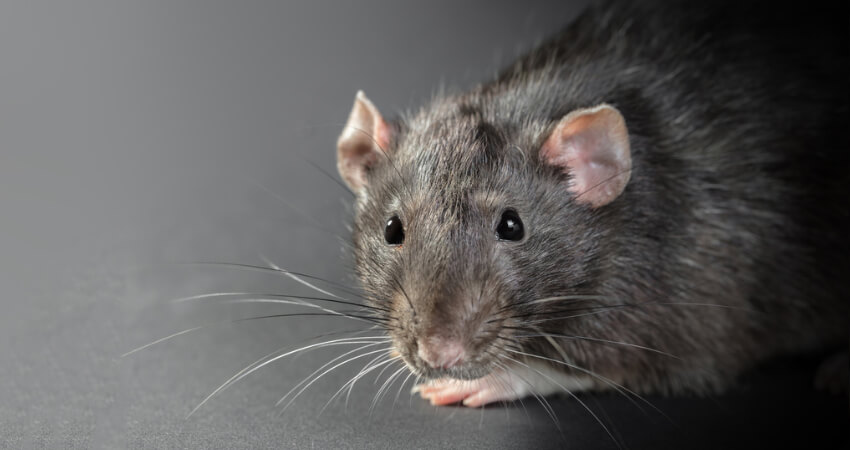rat: (317, 26, 762, 419)
